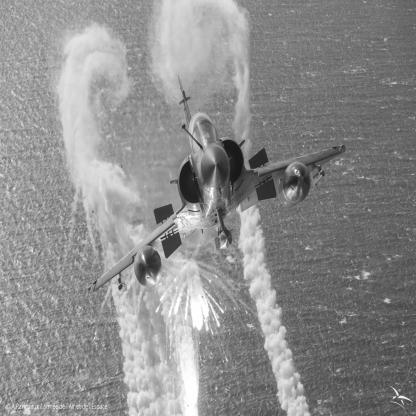Mirage2000: (86, 74, 347, 296)
